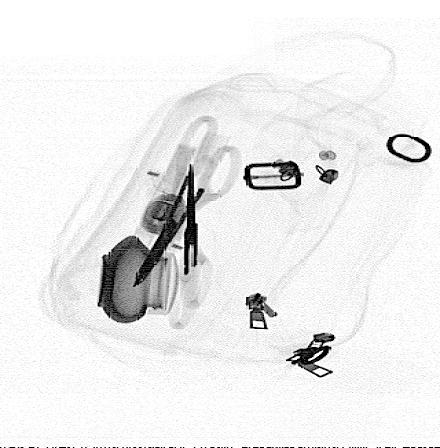Scissors: (130, 112, 248, 290), (161, 162, 218, 333)
